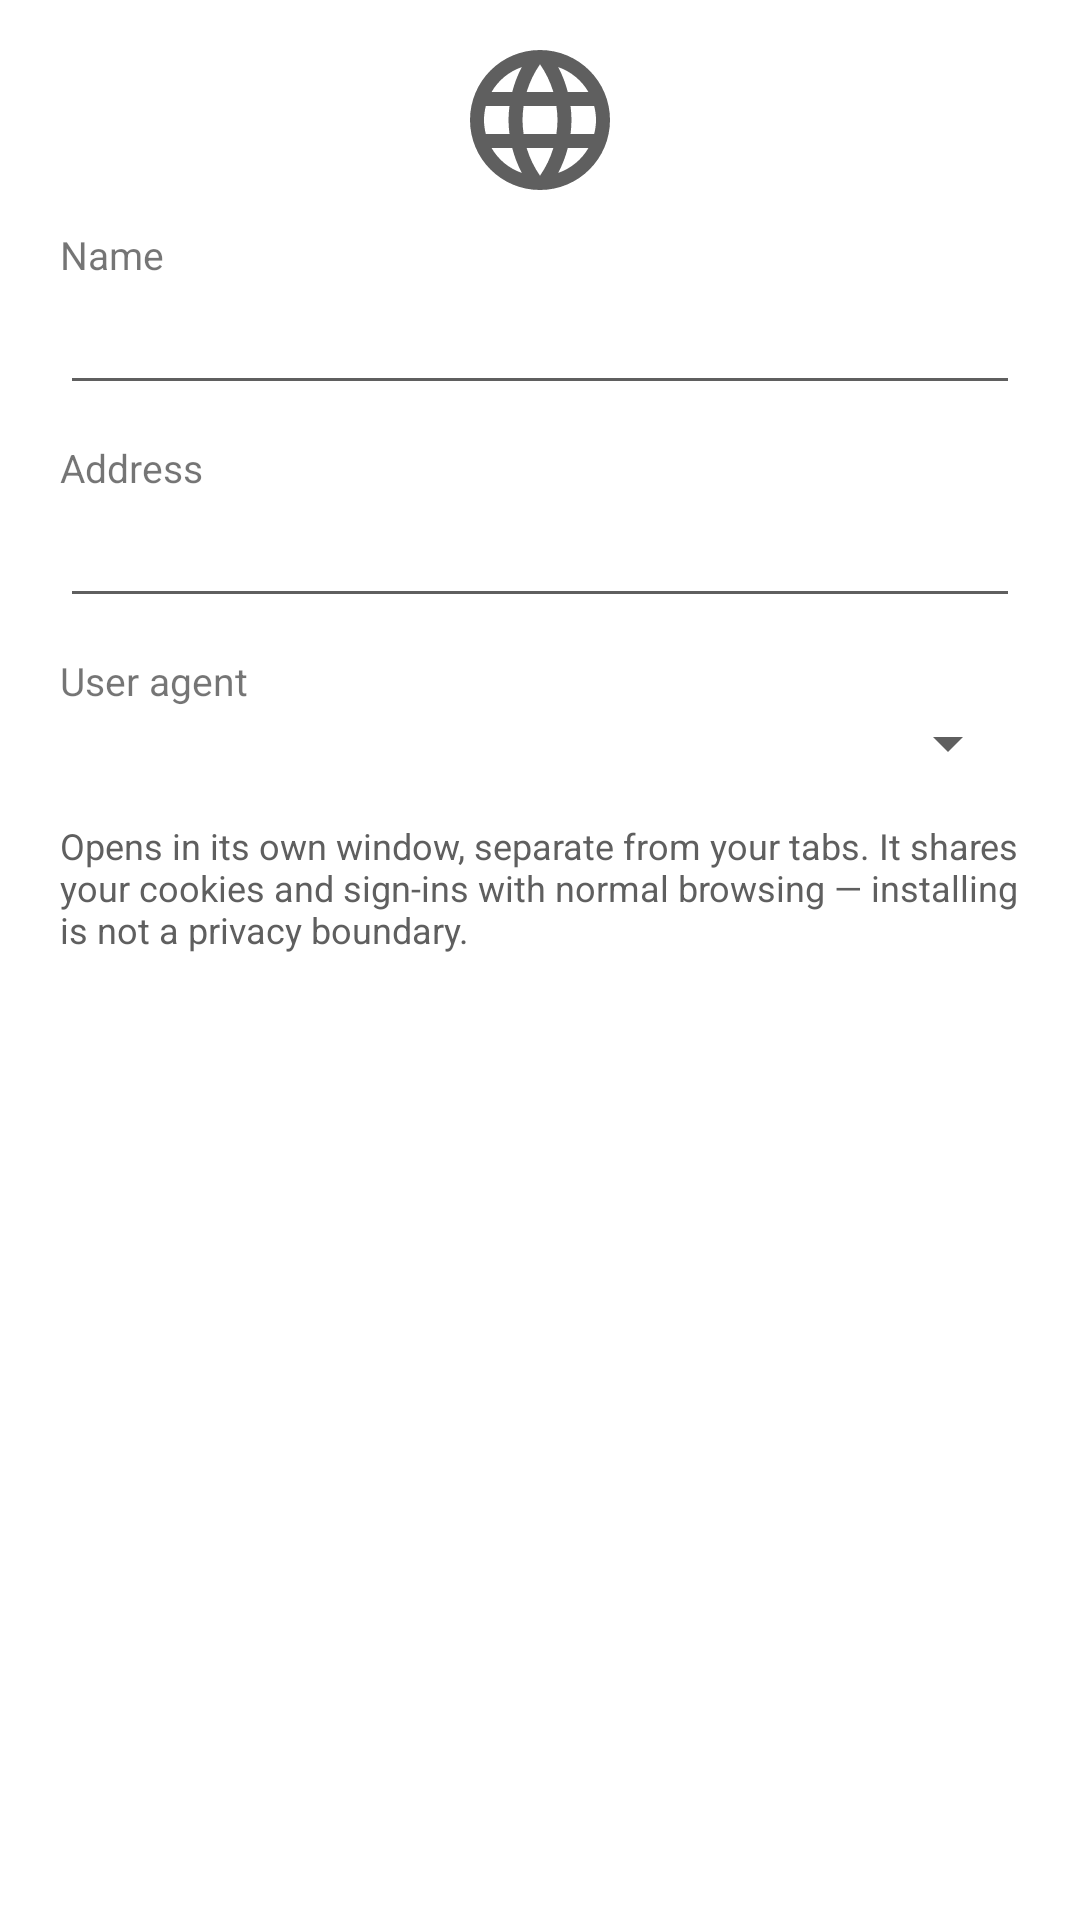

Icons on this 1080 x 1920 Android screen, each with the point to tap as [x,y]:
globe: [540,120]
